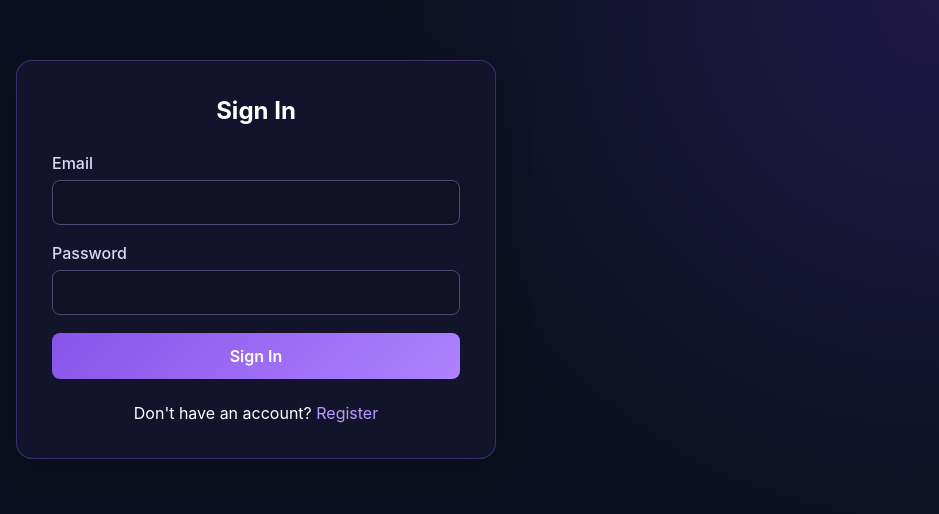
Login component behaviour › displays an error when credentials are invalid
The width and height of the screenshot is (939, 514).
Type "test@example.com" into the field labelled "Email" at x=256, y=202, box [52, 180, 460, 225]
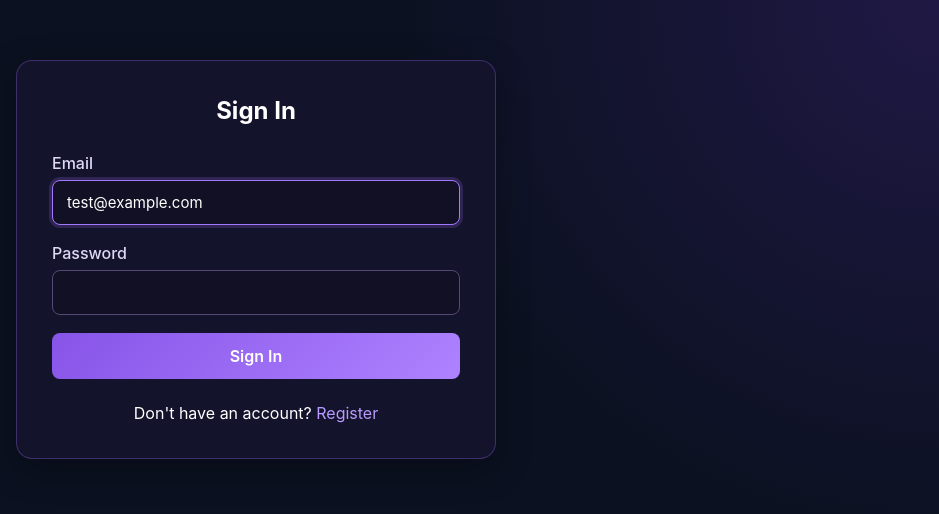
Type "WrongPassword" into the password field labelled "Password" at x=256, y=292, box [52, 270, 460, 315]
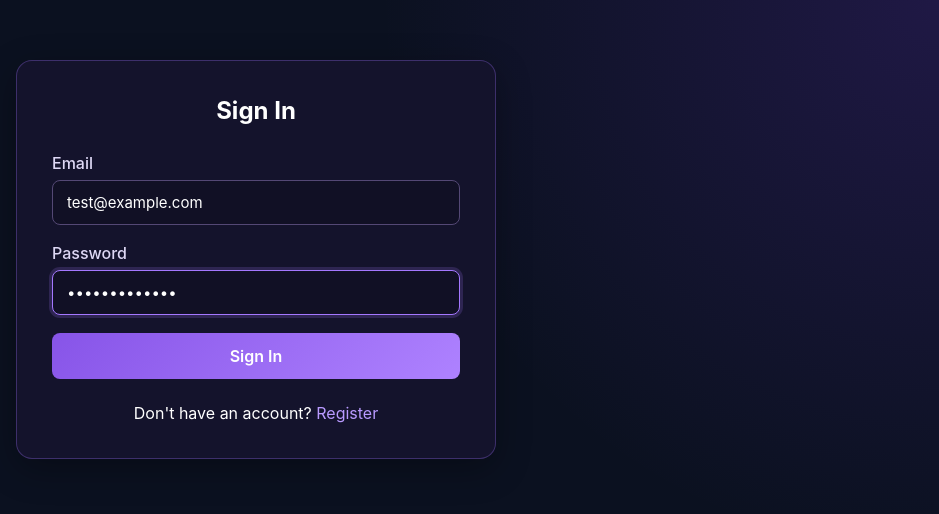
Click the button "Sign In" at x=256, y=356, box [52, 333, 460, 379]
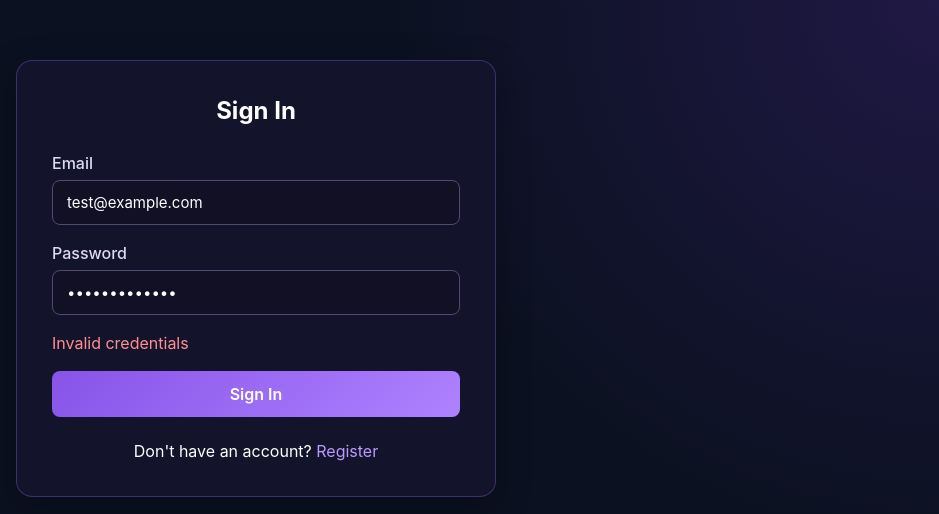
expect the message reads "Invalid credentials": met, box [52, 333, 189, 353]
